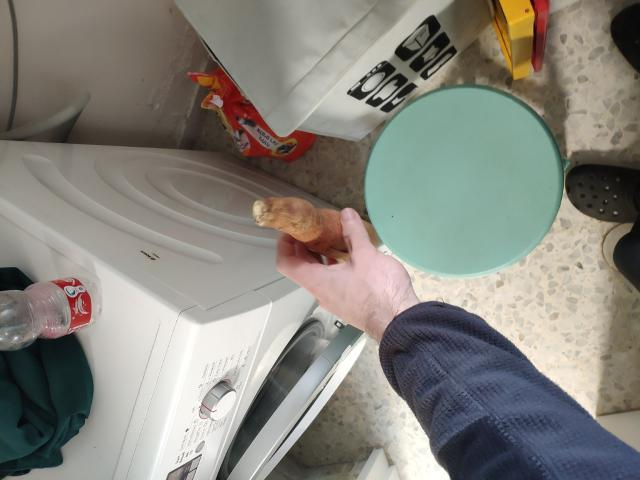sweet_potato: (253, 198, 409, 285)
